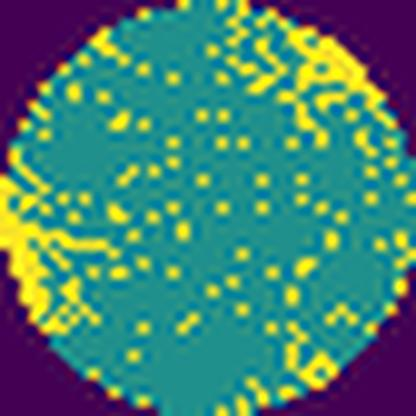Edge-Loc: (0, 150, 115, 341), (280, 0, 408, 142)
